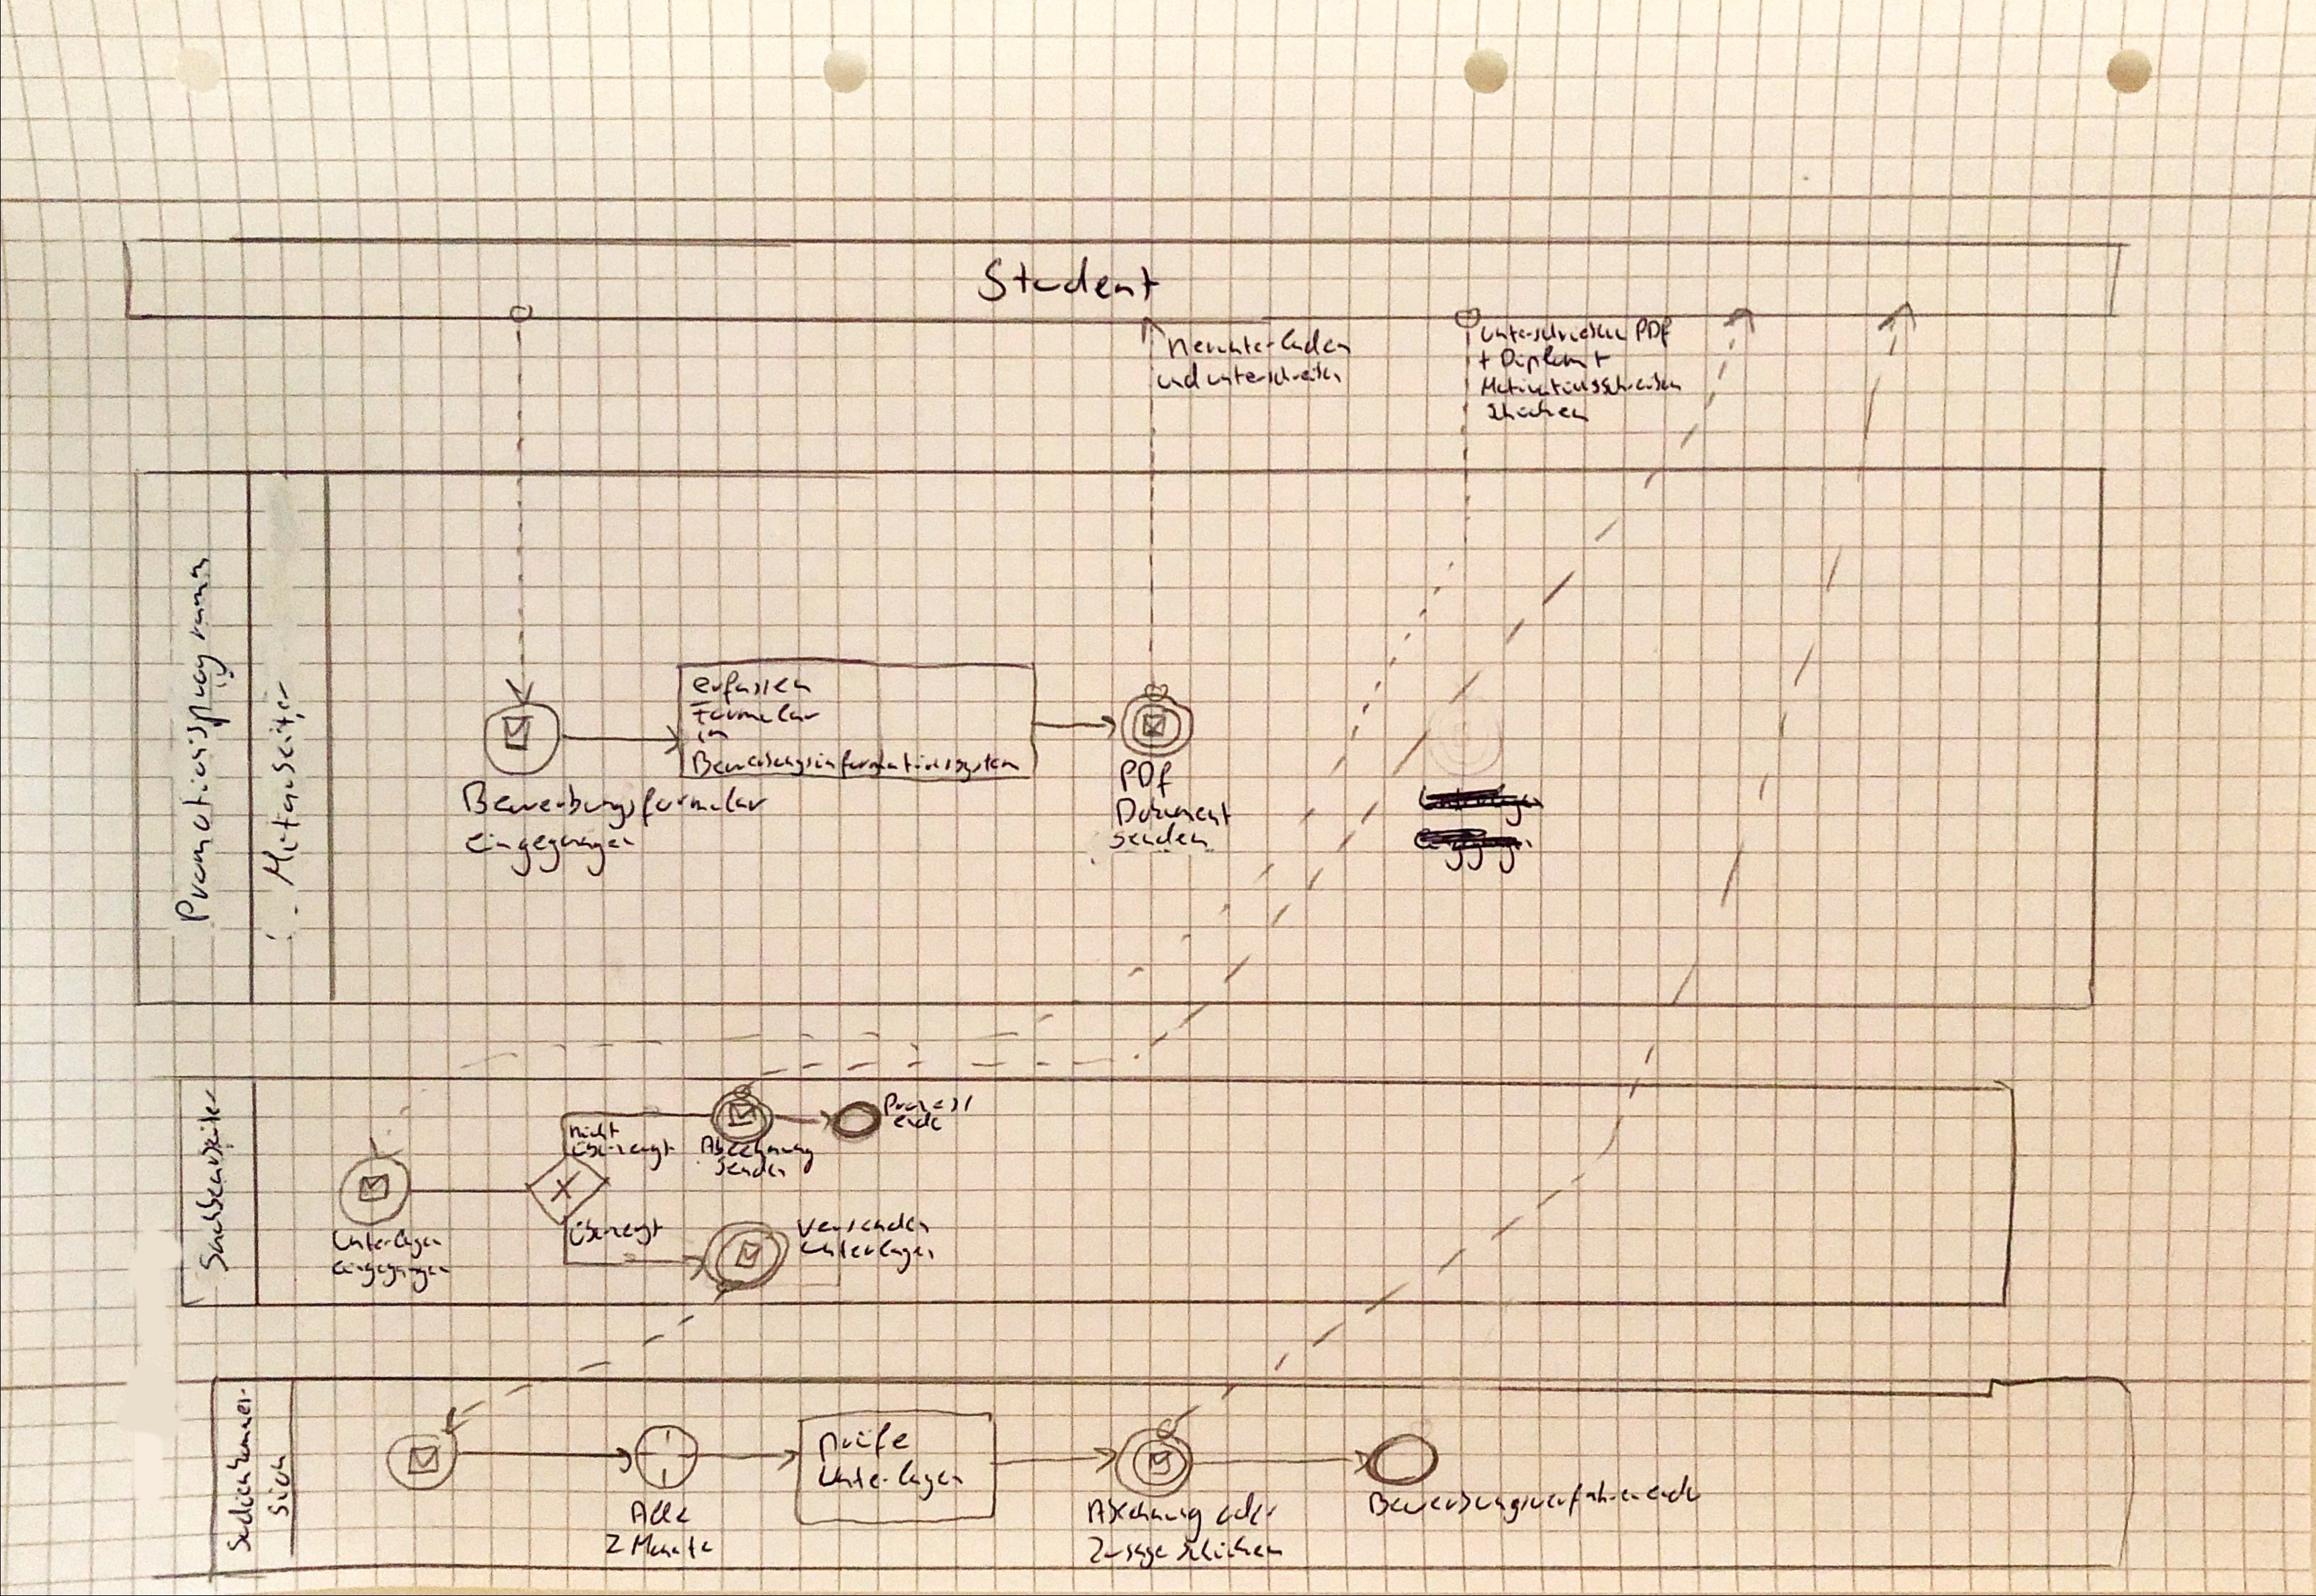+: (1472, 345, 1493, 369), (1593, 343, 1611, 370)
2: (603, 1527, 625, 1560)
Abrechnung: (1086, 1493, 1209, 1532), (699, 1136, 815, 1158)
Alle: (631, 1499, 692, 1528)
Bewerbungsformular: (466, 784, 775, 824)
Bewerbungsinformationssystem: (688, 746, 1024, 777)
Bewerbungsverfahren: (1369, 1474, 1636, 1524)
Diplom: (1495, 341, 1585, 368)
Dokument: (1120, 797, 1233, 829)
Formular: (690, 702, 826, 728)
Mitarbeiter: (260, 680, 306, 891)
Monate: (632, 1533, 715, 1560)
Motivationsschreiben: (1472, 373, 1683, 396)
PDF: (1116, 758, 1172, 795), (1631, 313, 1677, 349)
Promotionsprogramm: (169, 551, 227, 924)
Prozess: (881, 1089, 977, 1118)
Sachbearbeiter: (191, 1087, 234, 1273)
Sich: (263, 1454, 294, 1520)
Student: (978, 255, 1161, 308)
Studienkammer-: (213, 1390, 259, 1557)
Unterlagen: (800, 1231, 941, 1272), (816, 1458, 962, 1493), (328, 1227, 447, 1255)
Versenden: (791, 1209, 930, 1241)
Zusage: (1086, 1534, 1165, 1571)
eingegangen: (459, 829, 635, 869), (324, 1254, 455, 1285)
ende: (1642, 1471, 1703, 1513), (893, 1108, 948, 1136)
erfassen: (693, 671, 818, 703)
herunterladen: (1169, 325, 1355, 363)
in: (692, 719, 731, 746)
nicht: (565, 1118, 617, 1138)
oder: (1215, 1490, 1282, 1532)
prüfe: (818, 1422, 911, 1462)
schicken: (1173, 1536, 1290, 1570), (1484, 401, 1590, 426)
senden: (1104, 828, 1208, 860), (713, 1153, 787, 1183)
und: (1154, 364, 1200, 394)
unterschreiben: (1204, 361, 1346, 392)
unterschriebene: (1478, 315, 1626, 348)
überzeugt: (568, 1212, 672, 1251), (569, 1136, 691, 1167)
